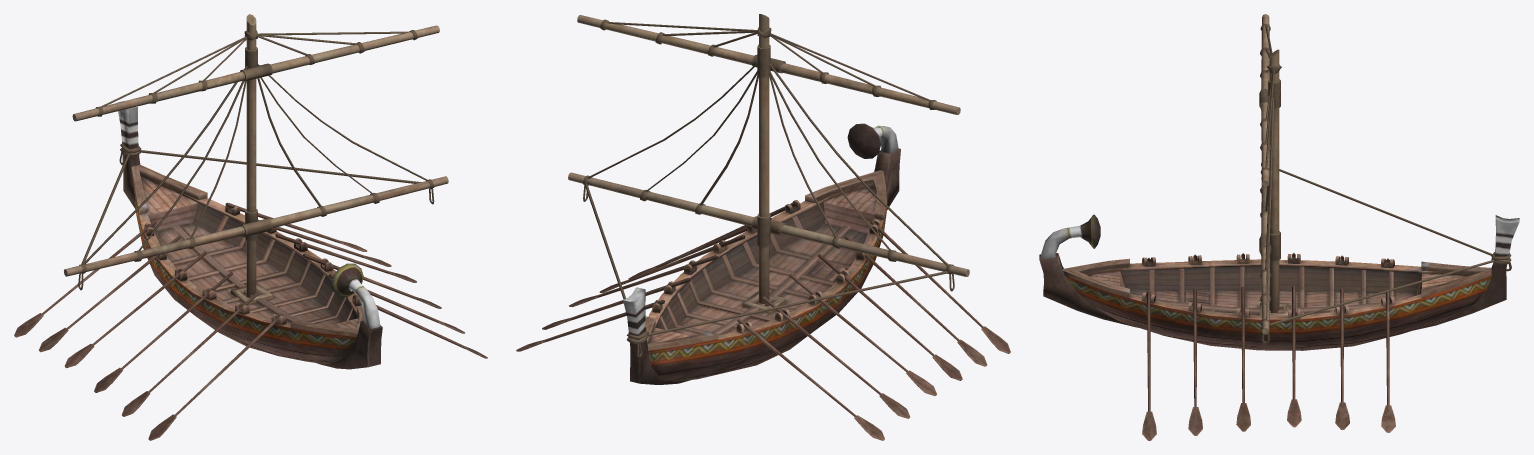
File: 222-kebenit.glb
The picture shows the model from 3 angles, left to right: view 1: azimuth 30°, elevation 25°; view 2: azimuth 150°, elevation 25°; view 3: azimuth 270°, elevation 25°; orthographic projection. The views are drawn at different scales.
Bounding box in the file's own units: 6.19 × 5.2 × 7.2.
1 material, 1 textured.
